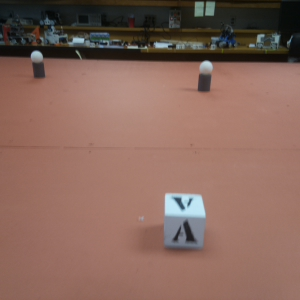blockA: (158, 185, 209, 252)
obstacle: (191, 60, 216, 95), (30, 49, 49, 79)
